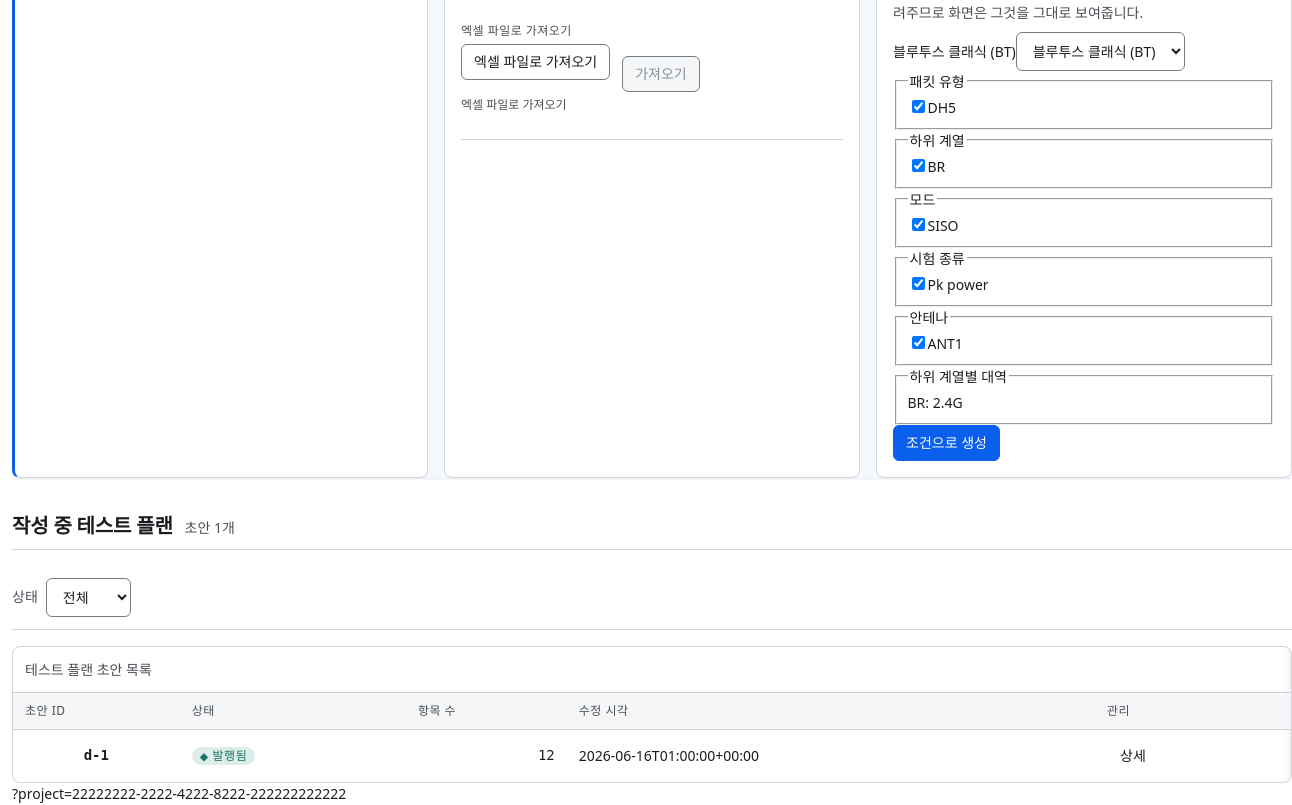
TestPlansRoute › hides the add-row form and remove control for a non-editable (published) draft (M5)
The image size is (1292, 805).
(page scrolled)
Click the button with test id "test-plans-detail-button" at {"x": 1133, "y": 756}, box left=1107, top=738, right=1159, bottom=774
(page scrolled)
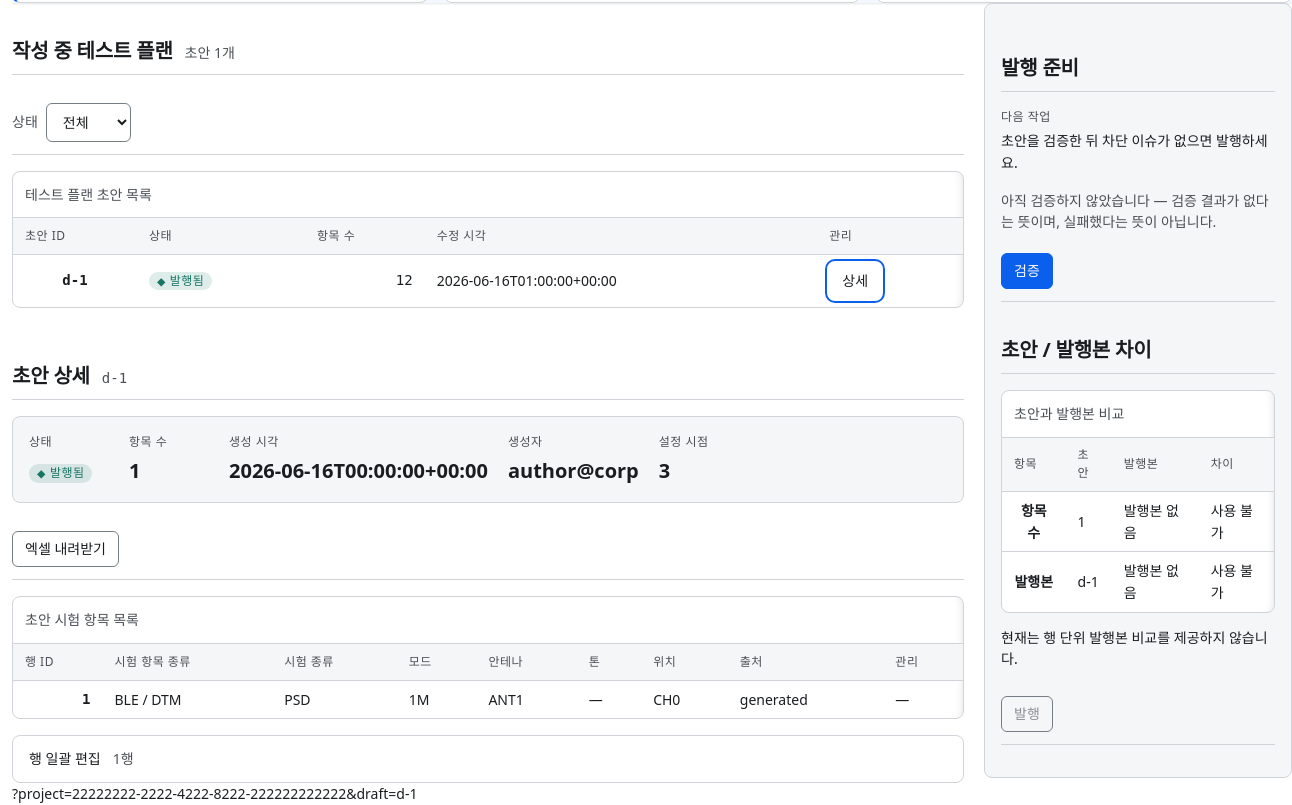
Expected: the table with test id "test-plans-detail-table" is shown, left=13, top=597, right=963, bottom=718
